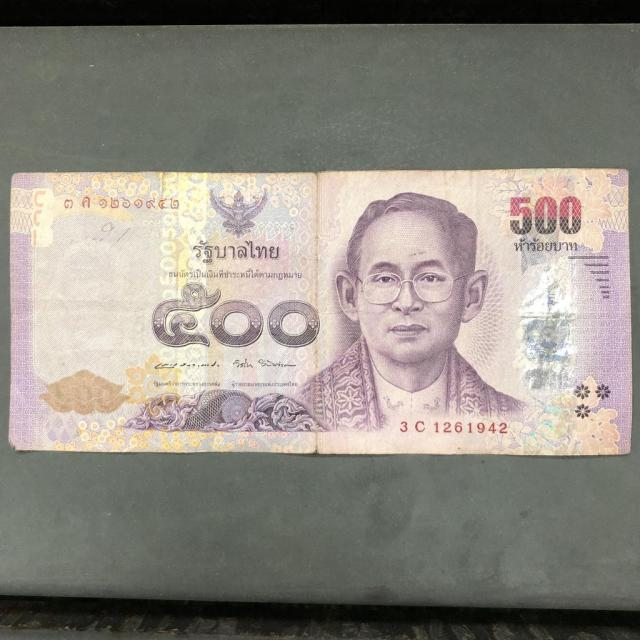THAI500: (9, 168, 632, 456)
